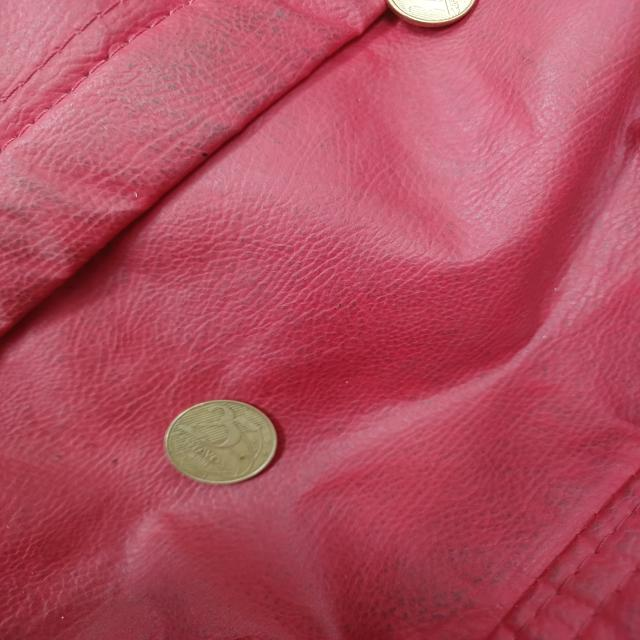25 cents: (163, 398, 281, 487)
